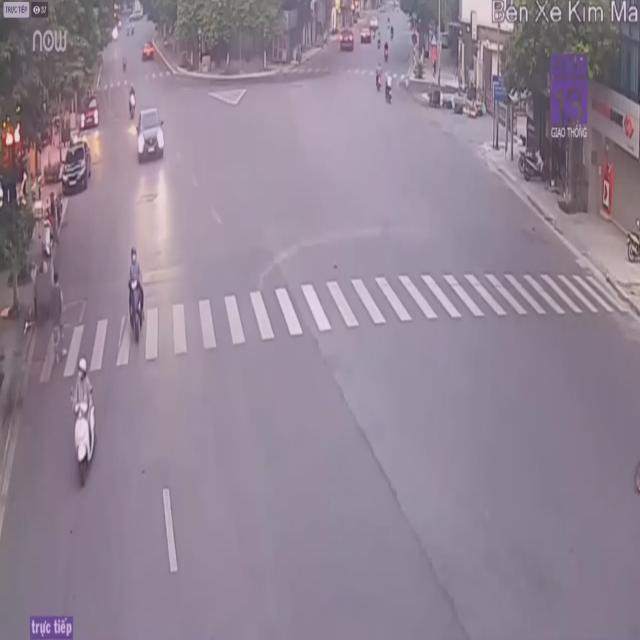car: (135, 109, 165, 166), (62, 138, 92, 192)
motorbike: (67, 359, 100, 483), (127, 249, 146, 348)
